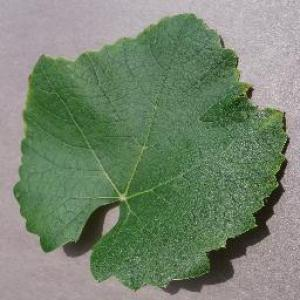Folha: (12, 11, 289, 290)
